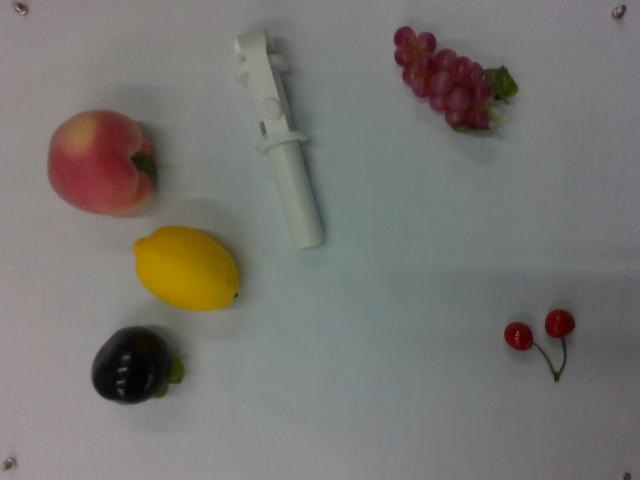cherry: (502, 306, 581, 383)
grape: (390, 25, 518, 142)
lemon: (131, 224, 241, 313)
mangosteen: (90, 322, 186, 406)
peach: (48, 109, 159, 219)
selfiestick: (233, 27, 327, 252)
